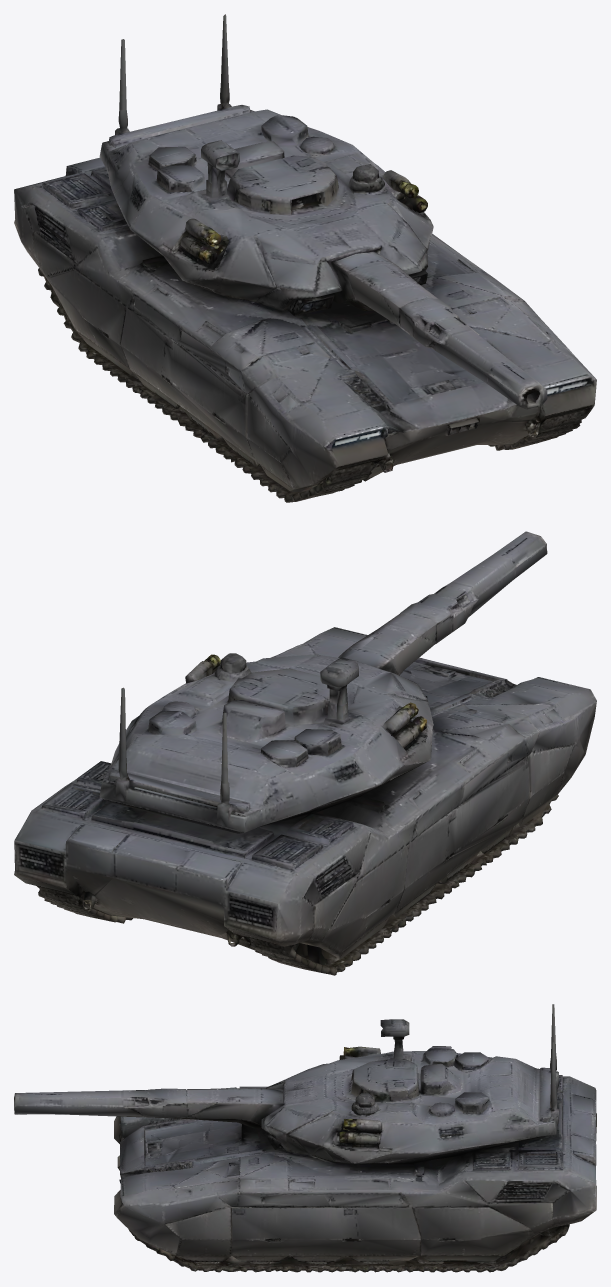
The model's file is tank_future.glb.
3 renders of one model, top to bottom at view 1: azimuth 30°, elevation 25°; view 2: azimuth 150°, elevation 25°; view 3: azimuth 270°, elevation 25°, orthographic. The views are drawn at different scales.
Visible parts, largest first — view 1: geometry_0; view 2: geometry_0; view 3: geometry_0.
Boxes of the visible parts, x1,y1,x2,y2 form: geometry_0: [14, 14, 596, 502]; geometry_0: [14, 531, 596, 975]; geometry_0: [14, 1004, 596, 1272].
Bounding box in the file's own units: 0.4698 × 0.4262 × 1.11.
Materials: 1 (1 with a texture image).
